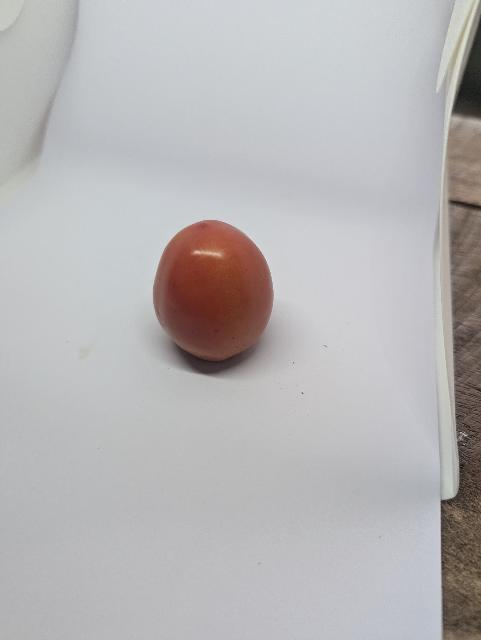red: (151, 214, 289, 381)
